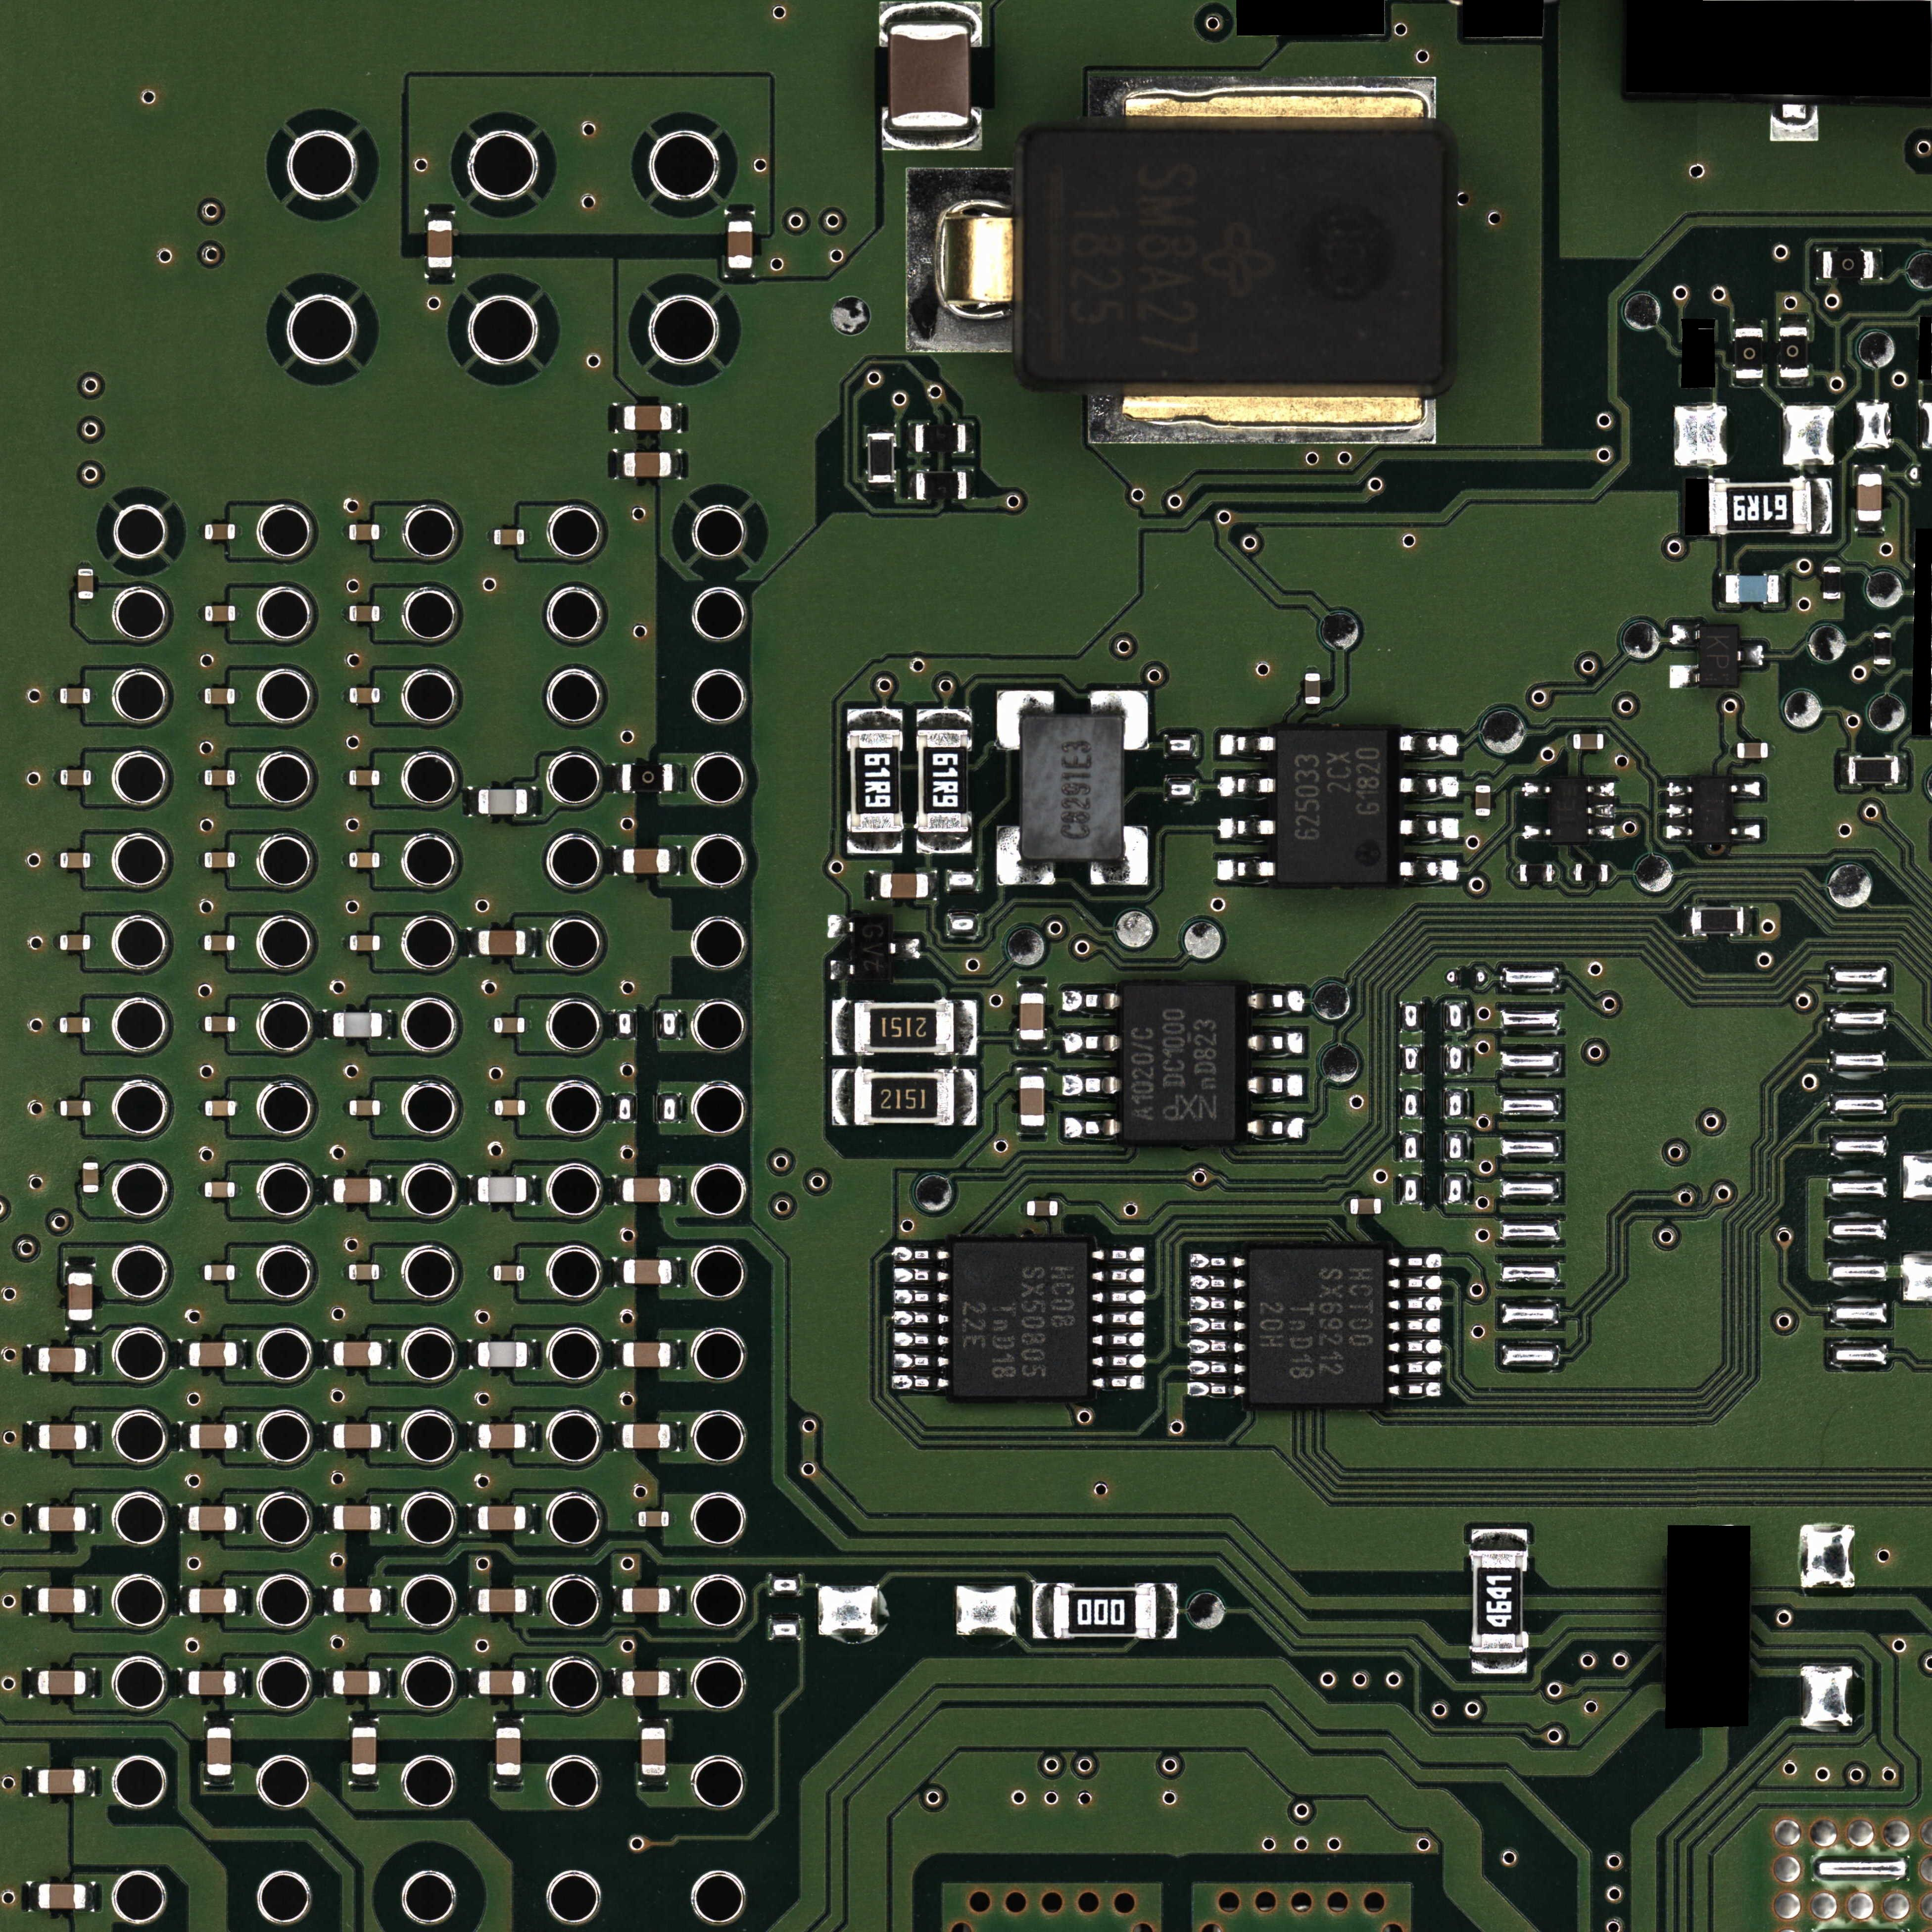Package: (1019, 126, 1454, 393), (1247, 1247, 1385, 1405), (952, 1242, 1088, 1398), (1122, 984, 1238, 1141), (1277, 729, 1389, 885), (1019, 715, 1125, 858), (888, 25, 971, 127), (849, 731, 902, 832), (1054, 1585, 1155, 1638), (1472, 1552, 1525, 1652), (1709, 481, 1812, 533), (855, 1072, 954, 1125), (918, 731, 970, 832), (855, 1001, 954, 1053), (853, 915, 892, 980), (1698, 625, 1739, 686), (1693, 777, 1730, 842), (1550, 778, 1587, 842), (1725, 575, 1778, 603), (621, 764, 672, 793), (915, 425, 966, 453), (1691, 908, 1744, 934), (916, 472, 966, 501), (1780, 327, 1808, 377), (1734, 329, 1762, 379), (1822, 251, 1874, 278), (478, 1177, 527, 1203), (478, 1341, 527, 1368), (1849, 757, 1898, 784), (623, 1670, 671, 1697), (39, 1424, 87, 1451), (478, 789, 527, 814), (623, 405, 672, 430), (869, 433, 893, 483), (623, 1260, 672, 1284), (478, 1589, 527, 1614), (333, 1012, 382, 1037), (333, 1178, 382, 1203), (333, 1424, 382, 1449), (207, 1727, 232, 1776), (37, 1348, 87, 1373), (333, 1589, 382, 1614), (188, 1506, 237, 1530), (37, 1589, 87, 1614), (333, 1341, 382, 1366), (623, 453, 671, 478), (727, 221, 752, 269), (478, 1670, 525, 1695), (478, 1424, 525, 1449), (623, 1424, 671, 1449), (478, 1506, 525, 1530), (623, 1178, 671, 1203), (188, 1670, 235, 1695), (37, 1670, 85, 1695), (39, 1884, 87, 1909), (623, 1589, 671, 1614), (478, 931, 525, 955), (67, 1272, 92, 1320), (333, 1506, 380, 1530), (37, 1507, 85, 1532), (495, 1727, 520, 1775), (333, 1670, 380, 1695), (623, 1343, 671, 1368), (189, 1589, 237, 1614), (189, 1424, 237, 1449), (37, 1769, 85, 1794), (189, 1343, 237, 1368), (352, 1727, 377, 1775), (1858, 474, 1882, 522), (1019, 993, 1044, 1040), (623, 849, 669, 874), (1021, 1076, 1044, 1125), (428, 219, 451, 267), (879, 874, 927, 897), (642, 1729, 665, 1775), (1822, 566, 1842, 600), (1520, 863, 1552, 883), (1575, 863, 1608, 881), (1874, 632, 1891, 665), (78, 568, 94, 600), (349, 770, 380, 786), (349, 524, 380, 540), (349, 605, 380, 621), (203, 1265, 235, 1281), (203, 936, 235, 952), (349, 1100, 380, 1116), (1350, 1198, 1382, 1214), (60, 853, 90, 869), (205, 853, 235, 869), (60, 770, 90, 786), (205, 605, 235, 621), (60, 688, 90, 704), (494, 529, 524, 545), (205, 770, 235, 786), (205, 524, 235, 540), (205, 688, 235, 704), (60, 1017, 90, 1033), (494, 1017, 524, 1033), (83, 1162, 99, 1192), (639, 1511, 669, 1527), (205, 1016, 235, 1031), (494, 1265, 524, 1281), (205, 1182, 235, 1198), (60, 1100, 90, 1116), (60, 934, 90, 950), (205, 1100, 235, 1116), (1737, 743, 1767, 759), (1476, 786, 1491, 816), (1028, 1200, 1058, 1215), (349, 853, 380, 867), (350, 688, 380, 702), (495, 1100, 525, 1115), (350, 936, 380, 950), (349, 1265, 379, 1279), (1573, 734, 1603, 748), (1306, 674, 1320, 704)
Solder: (906, 168, 1014, 354), (1086, 395, 1438, 444), (1090, 73, 1435, 115), (1090, 690, 1148, 750), (1090, 826, 1148, 885), (996, 826, 1054, 885), (996, 690, 1054, 748), (878, 2, 980, 25), (881, 127, 980, 150), (1769, 104, 1819, 142), (1399, 773, 1456, 798), (1062, 1072, 1118, 1097), (1247, 1072, 1302, 1097), (1217, 858, 1276, 881), (1399, 858, 1456, 881), (1399, 732, 1456, 755), (1399, 816, 1456, 839), (1247, 1116, 1304, 1139), (1063, 1031, 1118, 1054), (1065, 1115, 1120, 1138), (1063, 989, 1118, 1012), (1249, 1031, 1302, 1054), (916, 833, 973, 855), (832, 1000, 853, 1056), (832, 1069, 853, 1125), (955, 1069, 977, 1125), (955, 1000, 977, 1056), (847, 833, 902, 855), (1219, 775, 1274, 796), (1219, 817, 1274, 839), (1472, 1529, 1527, 1550), (1221, 734, 1274, 755), (1249, 991, 1302, 1012), (1812, 478, 1831, 534), (1470, 1654, 1527, 1674), (847, 709, 902, 729), (916, 709, 971, 729), (1157, 1583, 1177, 1638), (1033, 1583, 1053, 1638), (892, 1375, 950, 1391), (893, 1290, 950, 1306), (1189, 1361, 1246, 1376), (893, 1311, 948, 1327), (893, 1267, 948, 1283), (893, 1353, 948, 1369), (1189, 1338, 1244, 1353), (1389, 1361, 1442, 1376), (1187, 1382, 1246, 1396), (1389, 1382, 1440, 1398), (1389, 1339, 1440, 1355), (893, 1247, 950, 1261), (1189, 1297, 1246, 1311), (893, 1332, 948, 1346), (1189, 1318, 1244, 1332), (1191, 1254, 1244, 1269), (1092, 1247, 1145, 1261), (1389, 1254, 1442, 1269), (1191, 1276, 1244, 1290), (1389, 1297, 1440, 1311), (1093, 1269, 1145, 1283), (1093, 1290, 1145, 1304), (1093, 1375, 1145, 1389), (1093, 1311, 1145, 1325), (1093, 1332, 1145, 1346), (1389, 1318, 1440, 1332), (1389, 1276, 1440, 1290), (1093, 1353, 1145, 1368), (1670, 665, 1698, 688), (890, 938, 920, 959), (1737, 644, 1764, 667), (828, 915, 853, 938), (1672, 625, 1698, 646), (830, 961, 855, 980), (1730, 780, 1760, 796), (1730, 824, 1760, 839), (1523, 824, 1552, 839), (1587, 782, 1614, 796), (1667, 824, 1693, 839), (1587, 824, 1614, 839), (1523, 782, 1550, 796), (1587, 803, 1614, 817), (1668, 803, 1693, 817), (1668, 782, 1693, 796), (380, 1421, 391, 1453), (906, 469, 916, 501), (527, 786, 538, 817), (671, 1421, 681, 1453), (525, 1421, 536, 1453), (1778, 377, 1810, 387), (467, 787, 478, 817), (467, 927, 478, 957), (87, 1421, 97, 1451), (237, 1421, 248, 1451), (467, 1422, 478, 1453), (179, 1421, 189, 1451), (27, 1345, 37, 1375), (382, 1339, 393, 1369), (179, 1339, 189, 1369), (467, 1339, 478, 1369), (237, 1339, 248, 1369), (28, 1421, 39, 1451), (203, 1716, 234, 1727), (380, 1668, 391, 1698), (349, 1716, 379, 1727), (467, 1668, 478, 1698), (322, 1504, 333, 1534), (672, 449, 683, 479), (725, 211, 755, 221), (672, 403, 683, 433), (612, 403, 623, 433), (612, 449, 623, 479), (671, 846, 681, 876), (869, 870, 879, 901), (525, 927, 536, 957), (612, 846, 623, 876), (671, 1175, 681, 1205), (612, 1256, 623, 1286), (527, 1339, 538, 1369), (612, 1339, 623, 1369), (612, 1422, 623, 1453), (671, 1339, 681, 1369), (612, 1175, 623, 1205), (494, 1716, 524, 1727), (525, 1668, 536, 1698), (671, 1585, 681, 1615), (612, 1668, 623, 1698), (322, 1010, 333, 1039), (1840, 754, 1849, 787), (87, 1881, 96, 1913), (203, 1776, 235, 1785), (87, 1766, 96, 1798), (28, 1881, 37, 1913), (28, 1667, 37, 1698), (724, 269, 755, 278), (966, 423, 975, 455), (906, 423, 915, 455), (865, 483, 897, 492), (637, 1776, 669, 1785), (492, 1776, 524, 1785), (1016, 1040, 1047, 1049), (1718, 573, 1727, 605), (1778, 573, 1787, 605), (425, 211, 455, 219), (425, 269, 455, 278), (87, 1345, 96, 1375), (382, 1175, 391, 1205), (65, 1263, 96, 1272), (324, 1175, 333, 1205), (65, 1322, 96, 1330), (382, 1008, 391, 1039), (324, 1339, 333, 1369), (469, 1175, 478, 1205), (237, 1668, 246, 1698), (324, 1668, 333, 1698), (349, 1776, 379, 1785), (469, 1585, 478, 1615), (382, 1585, 391, 1615), (237, 1504, 246, 1534), (324, 1585, 333, 1615), (87, 1585, 96, 1615), (179, 1585, 188, 1615), (179, 1504, 188, 1534), (382, 1504, 391, 1534), (237, 1585, 246, 1615), (28, 1766, 37, 1796), (469, 1504, 478, 1534), (865, 425, 895, 433), (968, 469, 977, 499), (612, 764, 621, 794), (929, 870, 938, 901), (672, 763, 681, 793), (672, 1258, 681, 1288), (527, 1175, 536, 1205), (639, 1718, 669, 1727), (671, 1668, 679, 1698), (614, 1585, 623, 1615), (527, 1585, 536, 1615), (1778, 318, 1808, 327), (1854, 464, 1884, 472), (1734, 379, 1764, 387), (1874, 249, 1882, 280), (1743, 906, 1752, 936), (1854, 522, 1884, 531), (1898, 755, 1907, 786), (324, 1422, 333, 1451), (87, 1668, 96, 1697), (179, 1668, 188, 1697), (1017, 984, 1046, 993), (1732, 320, 1764, 327), (1684, 906, 1691, 938), (30, 1504, 37, 1534), (87, 1504, 94, 1534), (30, 1585, 37, 1615), (527, 1504, 534, 1534), (1017, 1127, 1047, 1134), (1017, 1069, 1047, 1076), (1815, 249, 1822, 280), (487, 1099, 495, 1116), (524, 1017, 533, 1033), (1380, 1198, 1389, 1214), (1608, 863, 1615, 883), (198, 851, 205, 869), (53, 770, 60, 787), (81, 1155, 99, 1162), (53, 1016, 60, 1033), (198, 1099, 205, 1116), (487, 1263, 494, 1281), (53, 1099, 60, 1116), (1822, 598, 1840, 605), (198, 605, 205, 621), (78, 561, 94, 568), (379, 605, 386, 621), (198, 770, 205, 786), (90, 770, 97, 786), (198, 688, 205, 704), (90, 688, 97, 704), (53, 934, 60, 950), (196, 934, 203, 950), (53, 688, 60, 704), (198, 524, 205, 540), (53, 853, 60, 869), (341, 934, 349, 950), (379, 770, 386, 786), (90, 934, 97, 950), (379, 853, 386, 869), (198, 1016, 205, 1031), (90, 1017, 97, 1033), (90, 1100, 97, 1116), (341, 1263, 349, 1279), (380, 1100, 387, 1116), (198, 1182, 205, 1198), (235, 1016, 242, 1031), (198, 1265, 205, 1281), (379, 1263, 386, 1279), (235, 1100, 242, 1116), (487, 529, 494, 545), (524, 529, 531, 545), (487, 1017, 494, 1033), (524, 1265, 531, 1281), (669, 1511, 676, 1527), (632, 1511, 639, 1527), (1304, 704, 1320, 711), (1304, 667, 1320, 674), (1021, 1200, 1028, 1215), (1343, 1198, 1350, 1214), (1058, 1200, 1065, 1215), (1730, 743, 1737, 759), (1513, 865, 1520, 881), (1552, 865, 1559, 881), (1767, 743, 1775, 757), (1476, 778, 1490, 786), (1603, 734, 1610, 748), (343, 686, 349, 704), (81, 1192, 99, 1198), (343, 1099, 349, 1116), (1874, 665, 1891, 671), (343, 605, 349, 621), (343, 524, 349, 540), (380, 524, 386, 540), (343, 770, 349, 786), (235, 605, 241, 621), (235, 770, 241, 786), (235, 524, 241, 540), (235, 688, 241, 704), (235, 851, 241, 867), (380, 934, 386, 950), (78, 600, 94, 605), (235, 934, 241, 950), (235, 1182, 241, 1198), (235, 1265, 241, 1281), (525, 1100, 531, 1116), (1875, 626, 1891, 632), (1824, 561, 1840, 566), (1569, 865, 1575, 881), (343, 853, 349, 867), (380, 688, 386, 702), (90, 853, 96, 867), (1568, 734, 1573, 748), (1476, 816, 1490, 821)
